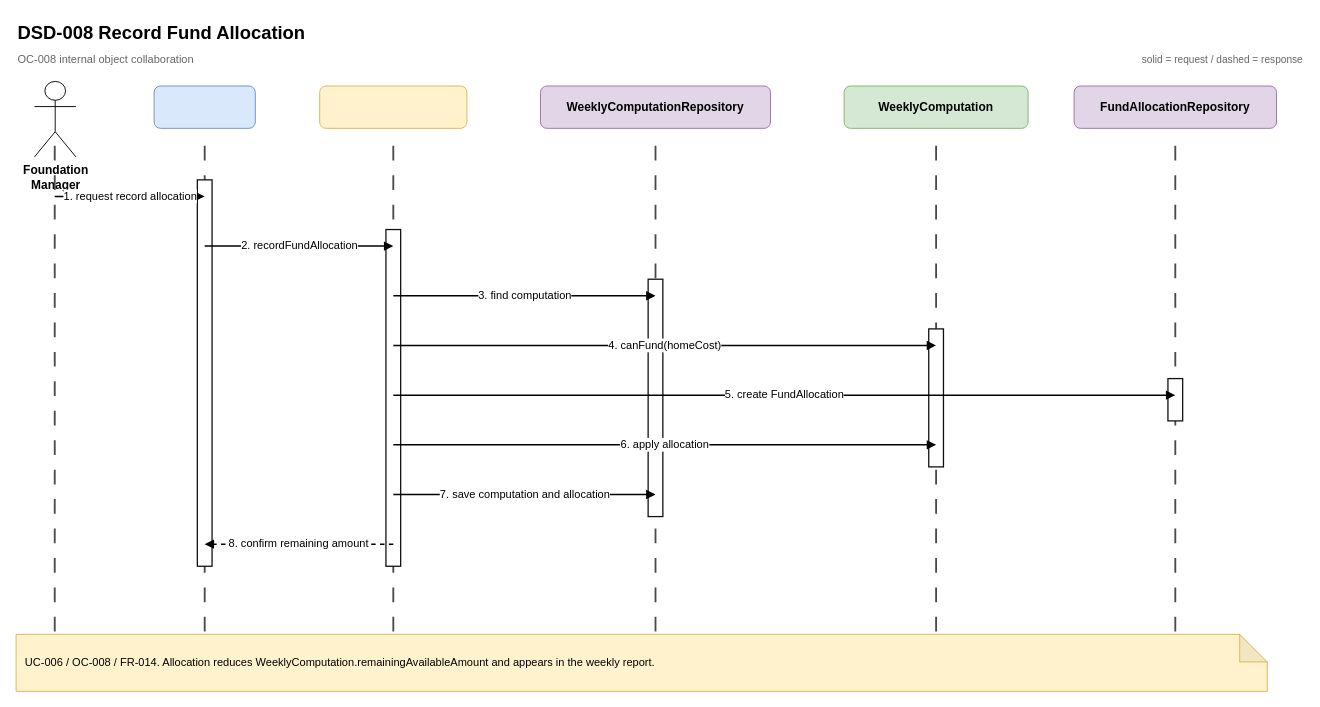
The diagram is 1320 pixels wide and 707 high, and some of its shapes have lost their labels. Here are the shapes that lost their labels. From the top down, the centre of each, then its label:
At point 204,106: "UI".
At point 393,106: "FundingService".
